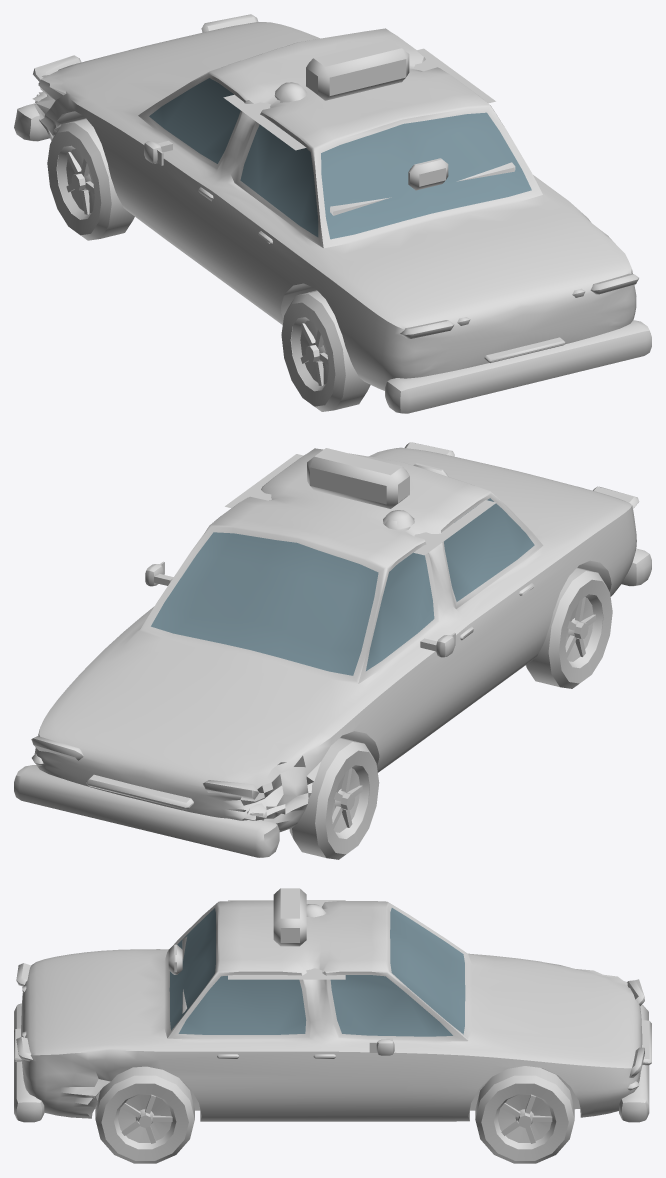
File: car_taxi_dmg1.glb
The picture shows the model from 3 angles, top to bottom: view 1: azimuth 30°, elevation 25°; view 2: azimuth 150°, elevation 25°; view 3: azimuth 270°, elevation 25°; orthographic projection. The views are drawn at different scales.
Parts seen in each view (by area): view 1: car_taxi_dmg1; view 2: car_taxi_dmg1; view 3: car_taxi_dmg1.
Boxes of the visible parts, <box> form: car_taxi_dmg1: <box>14,14,651,413</box>; car_taxi_dmg1: <box>14,442,651,859</box>; car_taxi_dmg1: <box>14,888,651,1163</box>.
Bounding box in the file's own units: 2.06 × 1.66 × 4.62.
